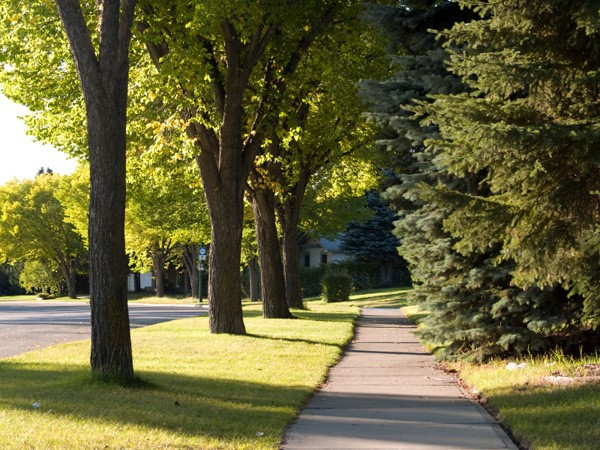Tree: (391, 5, 600, 367), (39, 1, 180, 400), (164, 1, 290, 340), (245, 40, 336, 322)
